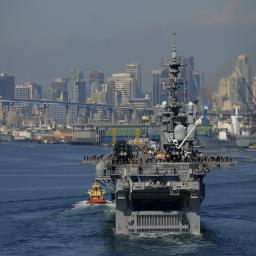Portanaves: (79, 32, 239, 239)
